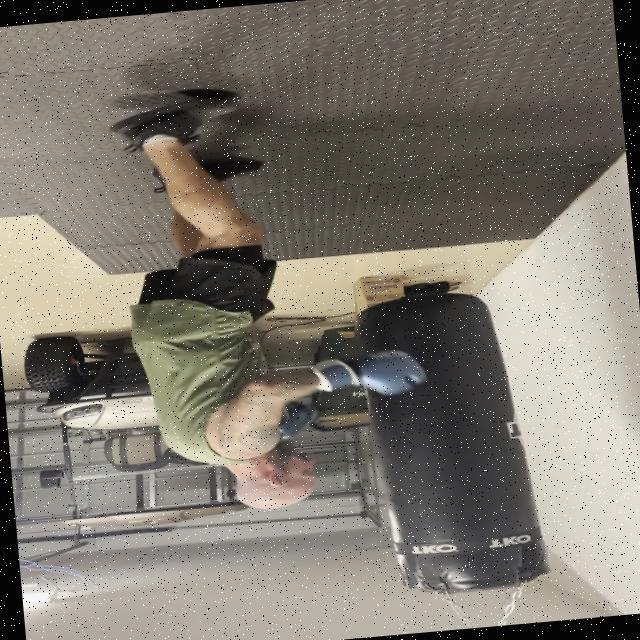bag: (358, 281, 536, 606)
hook: (160, 329, 446, 523)
